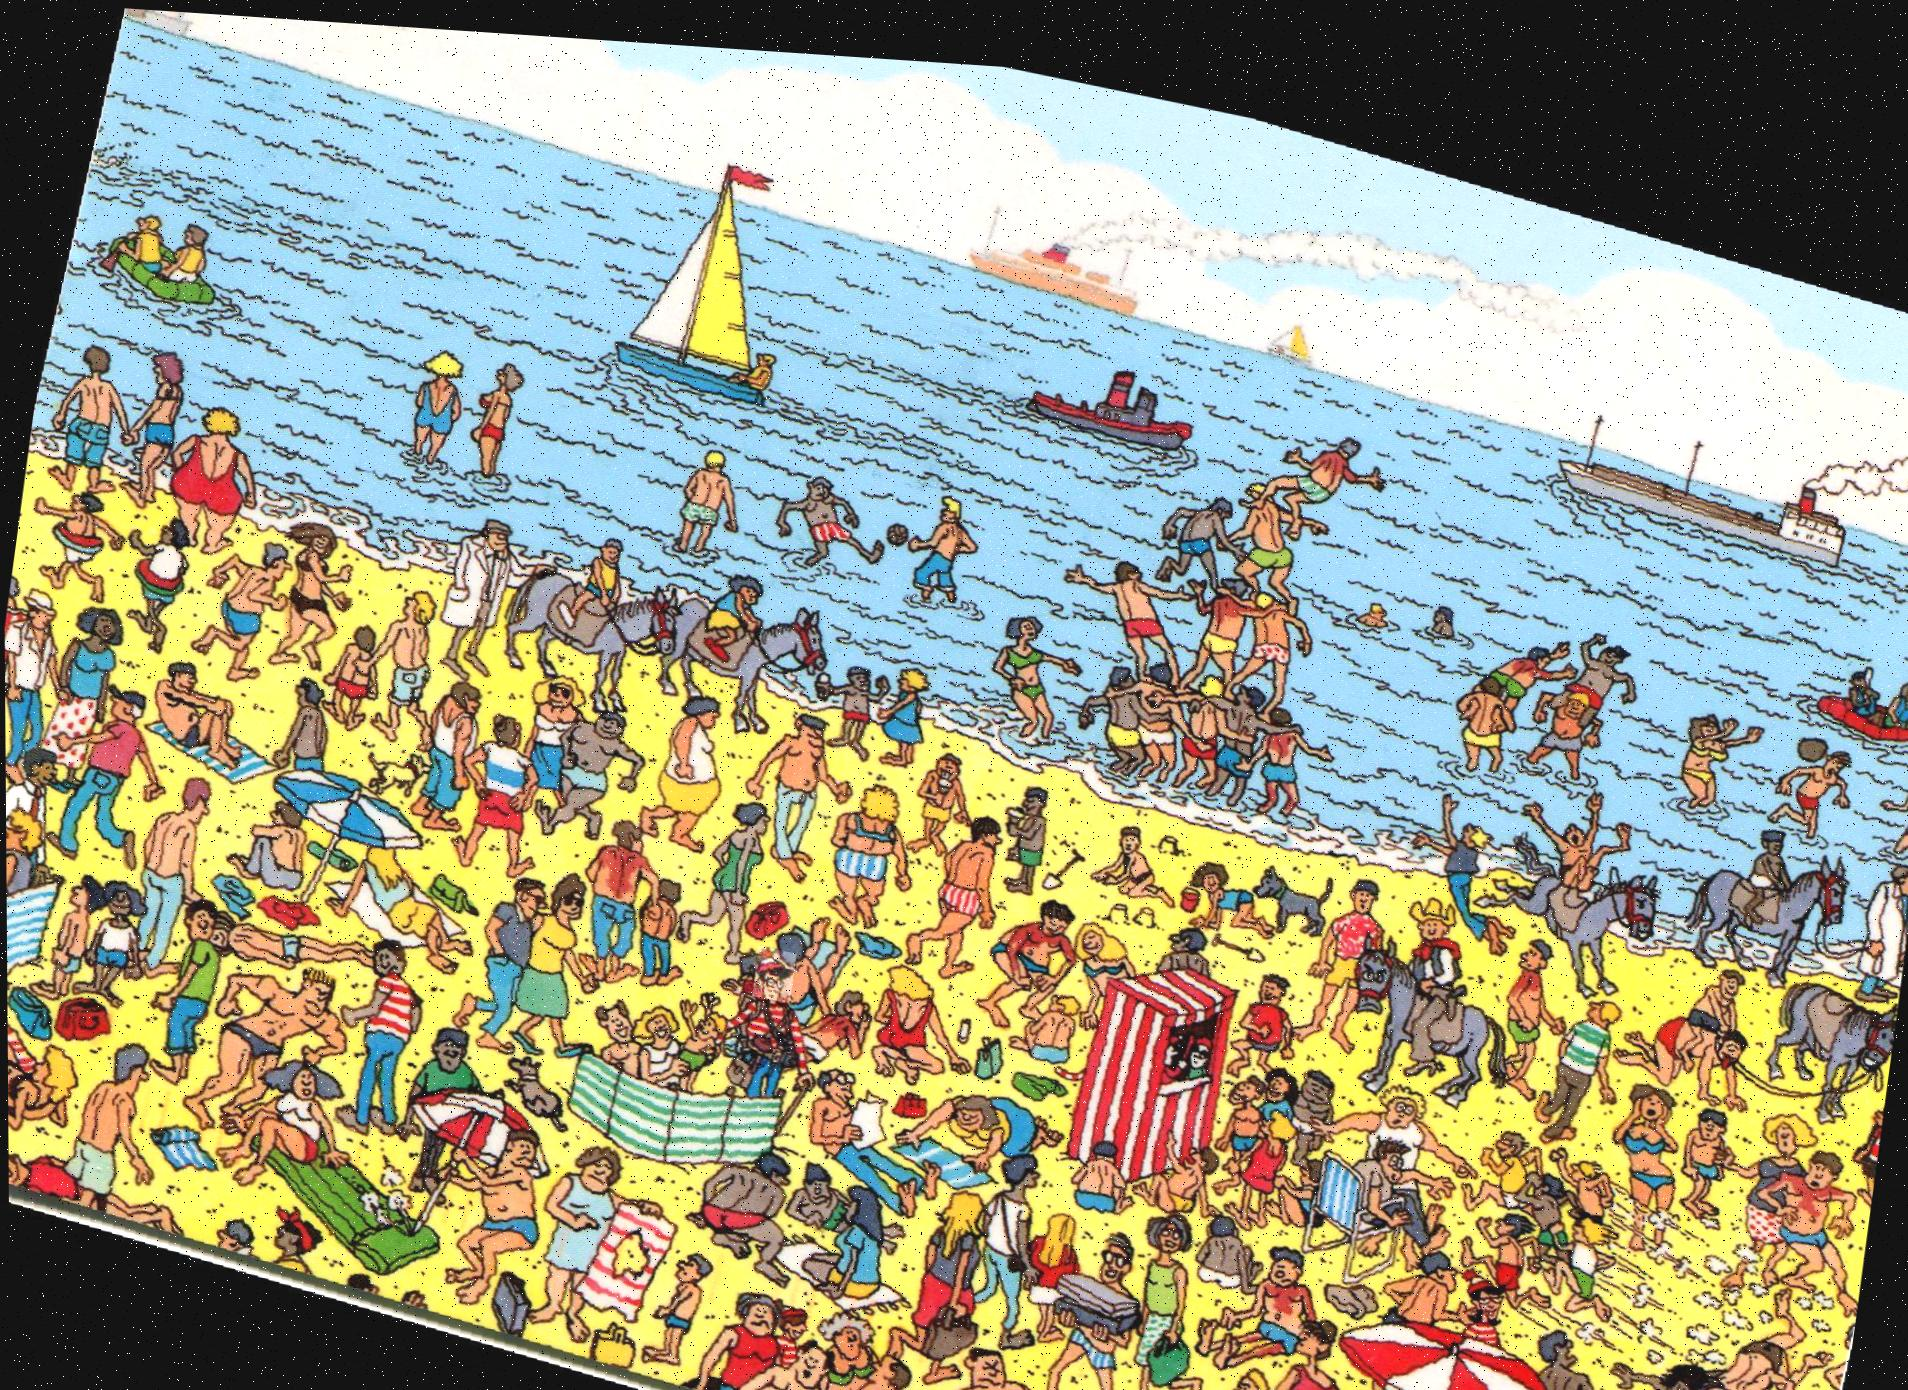waldo: (750, 935, 795, 993)
